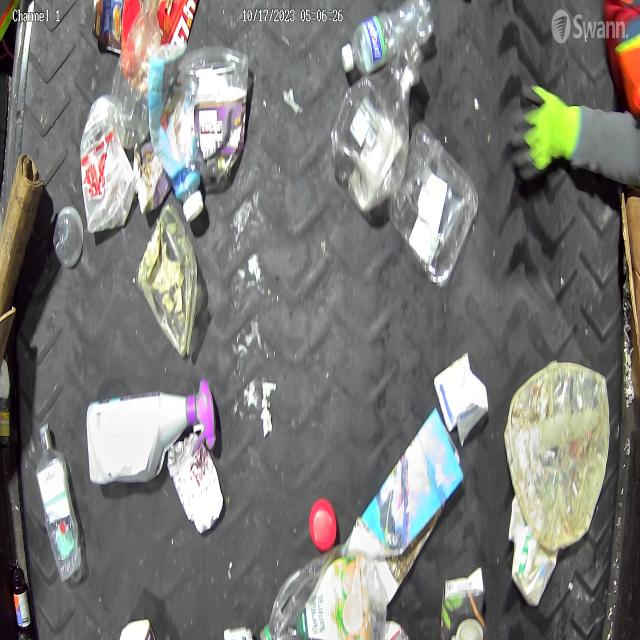plastic_bottle: (33, 426, 85, 585), (340, 0, 436, 78)
